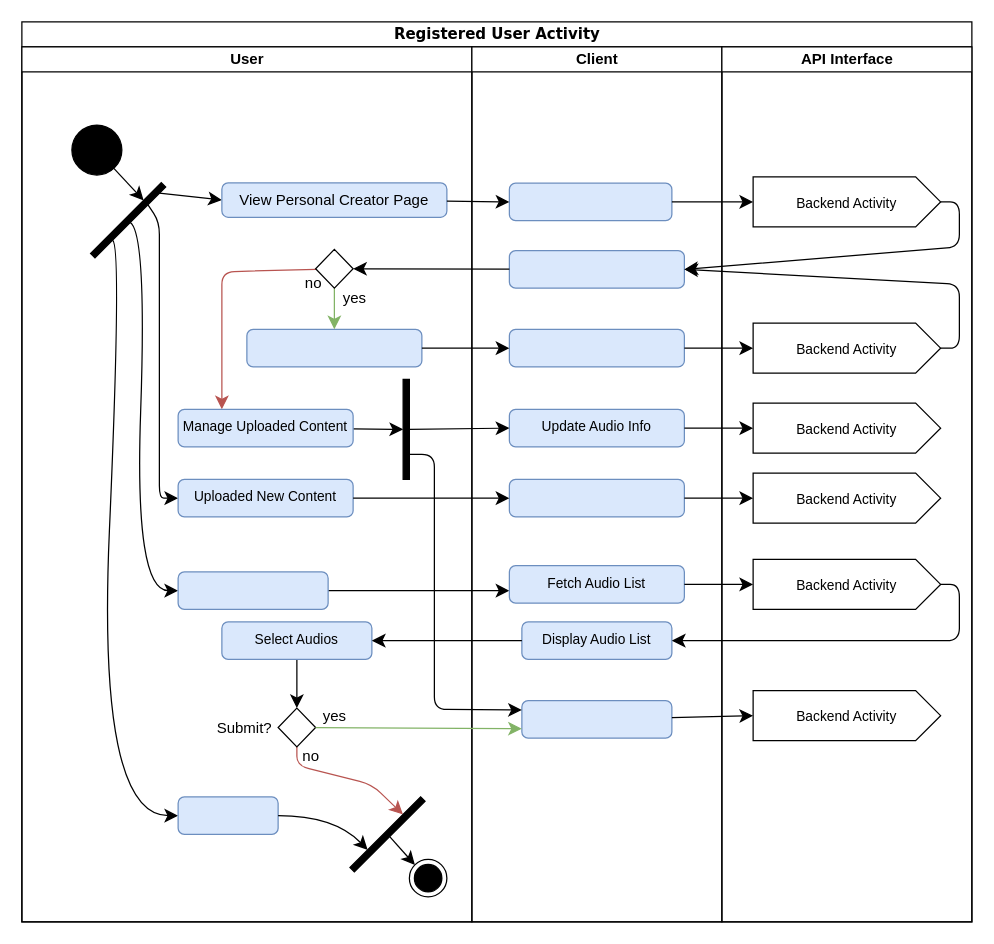
Some shapes in this 994 by 944 pixel diagram are drawn without their labels. Each missing label, with the centre of its shape:
"Add Playlist" goes at [596,718].
"Create Playlist" goes at [252,590].
"Display User Profile" goes at [596,268].
"Edit Personal Info?" goes at [333,268].
"Edit Personal User Info" goes at [334,347].
"Fetch Personal User Info" goes at [590,201].
"Sign Out" goes at [227,815].
"Update Personal User Info" goes at [596,347].
"Upload Audio File" goes at [596,497].
